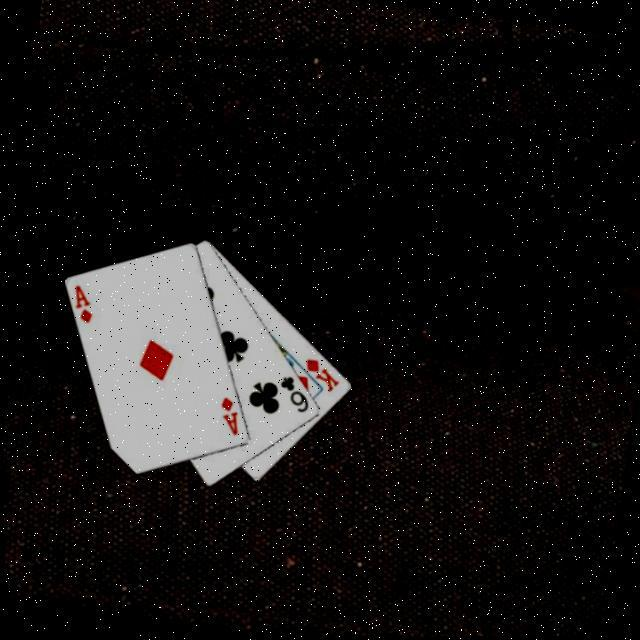6C: (272, 372, 314, 417)
AD: (212, 395, 244, 440), (65, 282, 97, 327)
KD: (298, 357, 343, 398)
